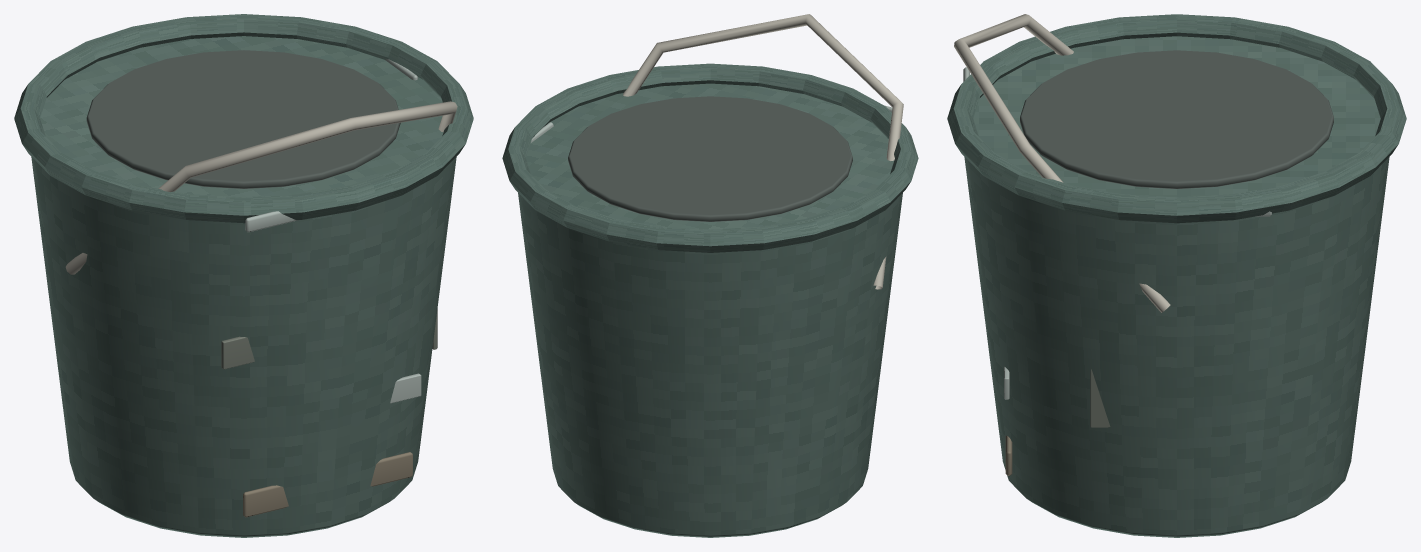
The model's file is Bucket_A.glb.
The picture shows the model from 3 angles, left to right: view 1: azimuth 30°, elevation 25°; view 2: azimuth 150°, elevation 25°; view 3: azimuth 270°, elevation 25°; orthographic projection. The views are drawn at different scales.
Parts seen in each view (by area): view 1: Bucket_A_body, Bucket_A_dark_inner, Bucket_A_rolled_rim, Bucket_A_handle, Bucket_A_bottom_dust, Bucket_A_front_scuff_01, Bucket_A_front_scuff_02, Bucket_A_front_rim_wear; view 2: Bucket_A_body, Bucket_A_dark_inner, Bucket_A_rolled_rim, Bucket_A_handle; view 3: Bucket_A_body, Bucket_A_dark_inner, Bucket_A_rolled_rim, Bucket_A_handle, Bucket_A_side_vertical_stain.
Boxes of the visible parts, x1,y1,x2,y2 form: Bucket_A_body: (31, 36, 456, 537); Bucket_A_dark_inner: (86, 50, 400, 188); Bucket_A_rolled_rim: (14, 14, 473, 223); Bucket_A_handle: (65, 101, 457, 274); Bucket_A_bottom_dust: (243, 452, 412, 517); Bucket_A_front_scuff_01: (221, 336, 254, 369); Bucket_A_front_scuff_02: (390, 373, 421, 403); Bucket_A_front_rim_wear: (245, 211, 297, 232); Bucket_A_body: (518, 83, 902, 537); Bucket_A_dark_inner: (568, 96, 852, 221); Bucket_A_rolled_rim: (502, 63, 918, 252); Bucket_A_handle: (623, 14, 903, 289); Bucket_A_body: (964, 36, 1389, 537); Bucket_A_dark_inner: (1020, 50, 1333, 188); Bucket_A_rolled_rim: (947, 14, 1406, 223); Bucket_A_handle: (954, 14, 1170, 312); Bucket_A_side_vertical_stain: (1090, 369, 1110, 427).
Bounding box in the file's own units: 0.424 × 0.4358 × 0.424.
Materials: 6 (1 with a texture image).
